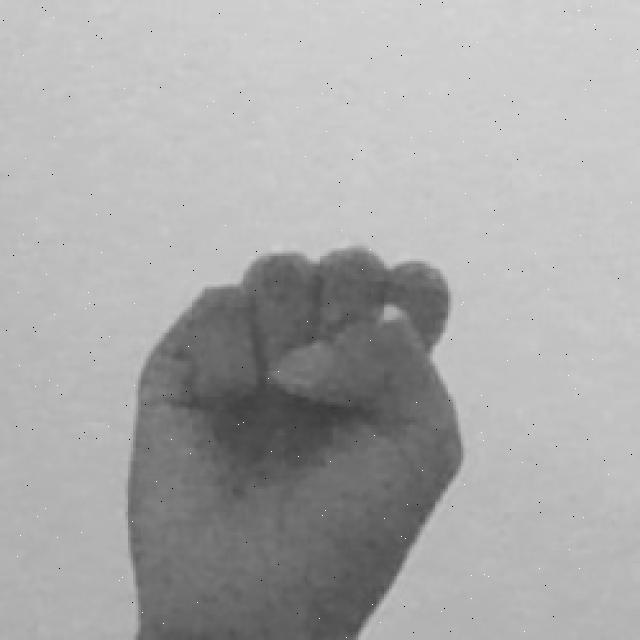S: (117, 238, 471, 640)
